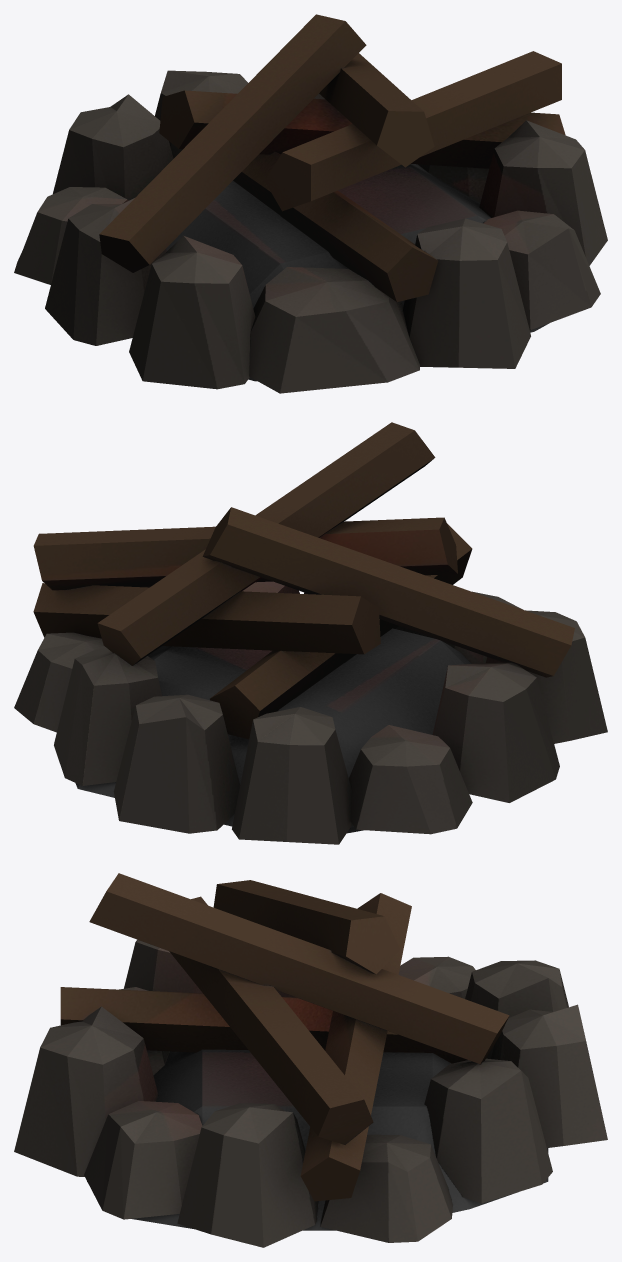
File: camp_fire.obj
3 renders of one model, top to bottom at view 1: azimuth 30°, elevation 25°; view 2: azimuth 150°, elevation 25°; view 3: azimuth 270°, elevation 25°, orthographic. The views are drawn at different scales.
Parts seen in each view (by area): view 1: Camp_fire_001; view 2: Camp_fire_001; view 3: Camp_fire_001.
Part boxes in pixels (box(x1,y1,x2,y2)): Camp_fire_001: box(14, 14, 607, 393); Camp_fire_001: box(14, 422, 607, 844); Camp_fire_001: box(14, 873, 607, 1247).
Size of the model in its own units: 23.27 by 10.57 by 23.31.
1 material, 1 textured.
